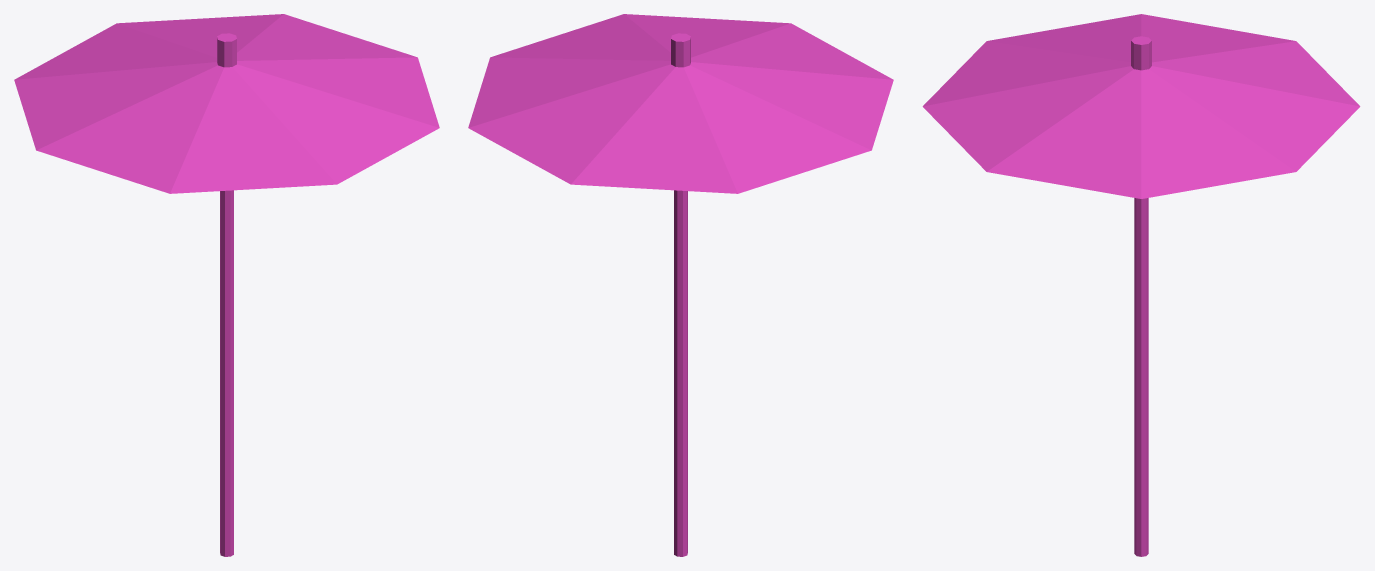
File: Umbrella.fbx
The picture shows the model from 3 angles, left to right: view 1: azimuth 30°, elevation 25°; view 2: azimuth 150°, elevation 25°; view 3: azimuth 270°, elevation 25°; orthographic projection.
Visible parts, largest first — view 1: Umbrella_small; view 2: Umbrella_small; view 3: Umbrella_small.
Boxes of the visible parts, x1,y1,x2,y2 form: Umbrella_small: (14,14,439,556); Umbrella_small: (468,14,893,556); Umbrella_small: (922,14,1360,556).
Size of the model in its own units: 8.96 by 11.59 by 8.96.
